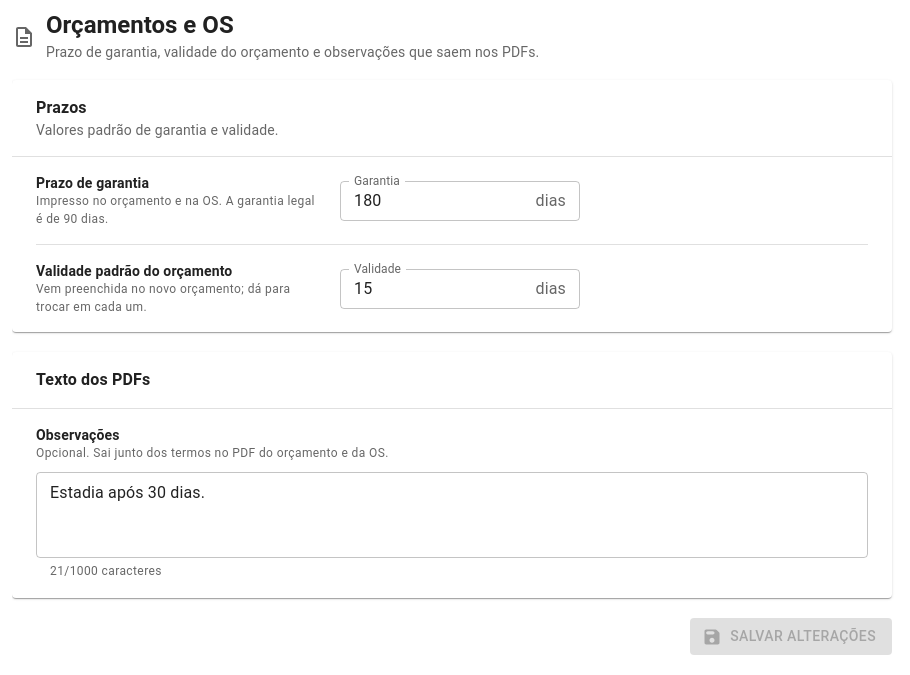
it: Configurações > Orçamentos e OS › salva o prazo novo e volta a desativar o Salvar
Replace the text in the number field with test id "garantia-dias" with "365" at [434, 201], box left=340, top=181, right=528, bottom=221
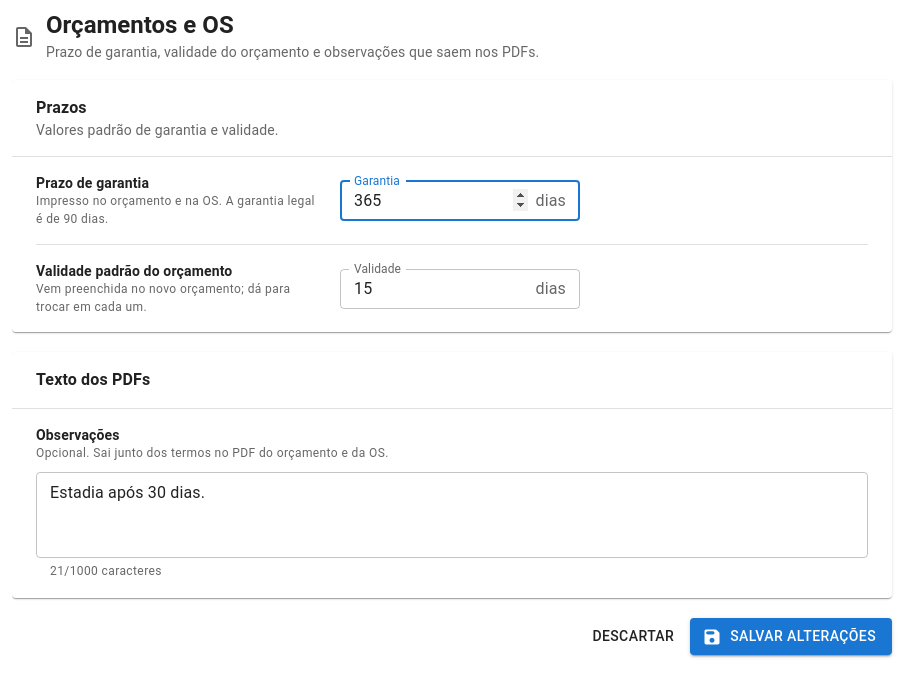
Click the button with test id "save-documentos" at [791, 637], box left=690, top=618, right=892, bottom=655
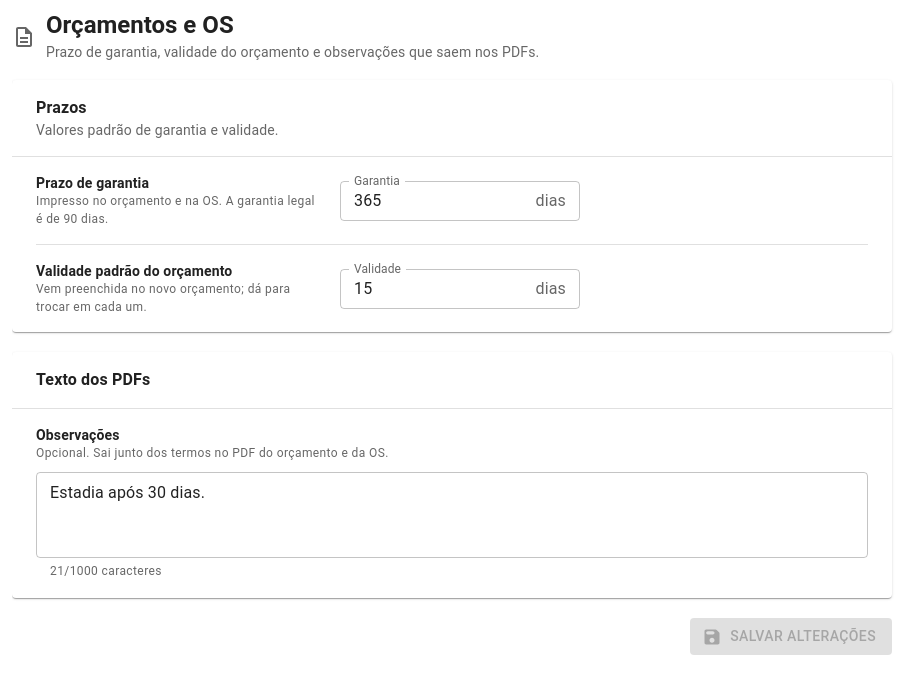
Result: the button with test id "save-documentos" is disabled at left=690, top=618, right=892, bottom=655
